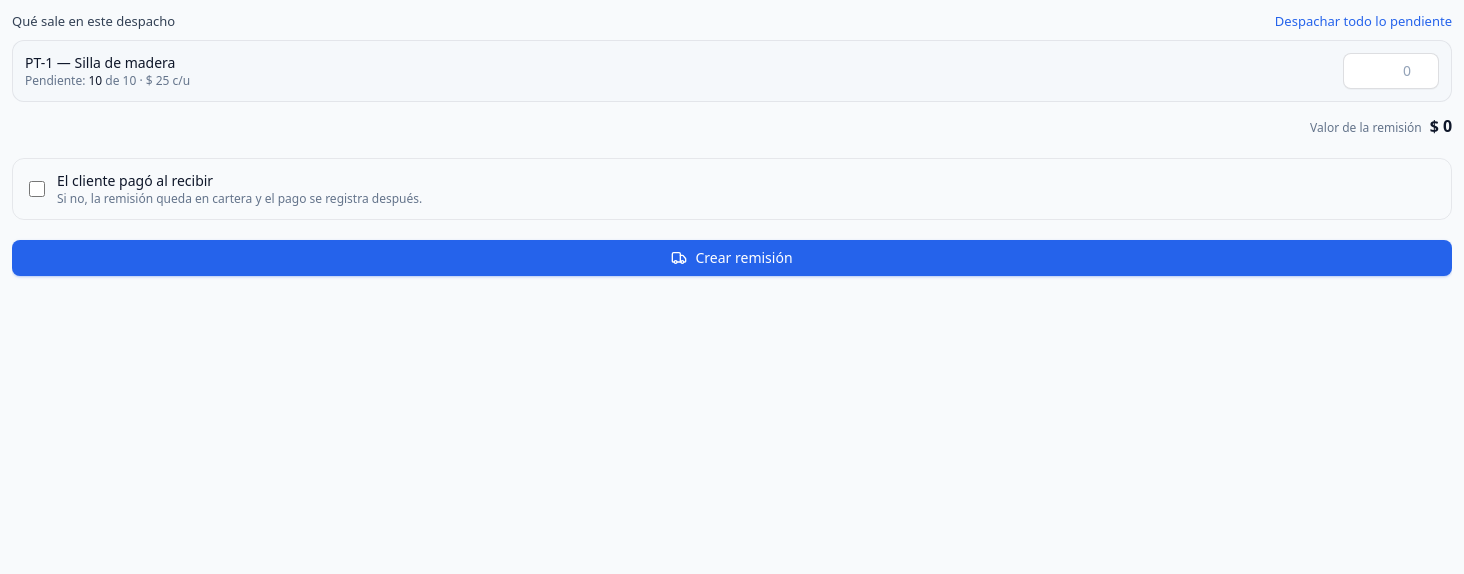
Test case: RemissionForm › requires a valid amount when the client paid on delivery
Type "2" into the number field named "Cantidad a entregar de Silla de madera" at [1391, 70], box [1343,52,1439,88]
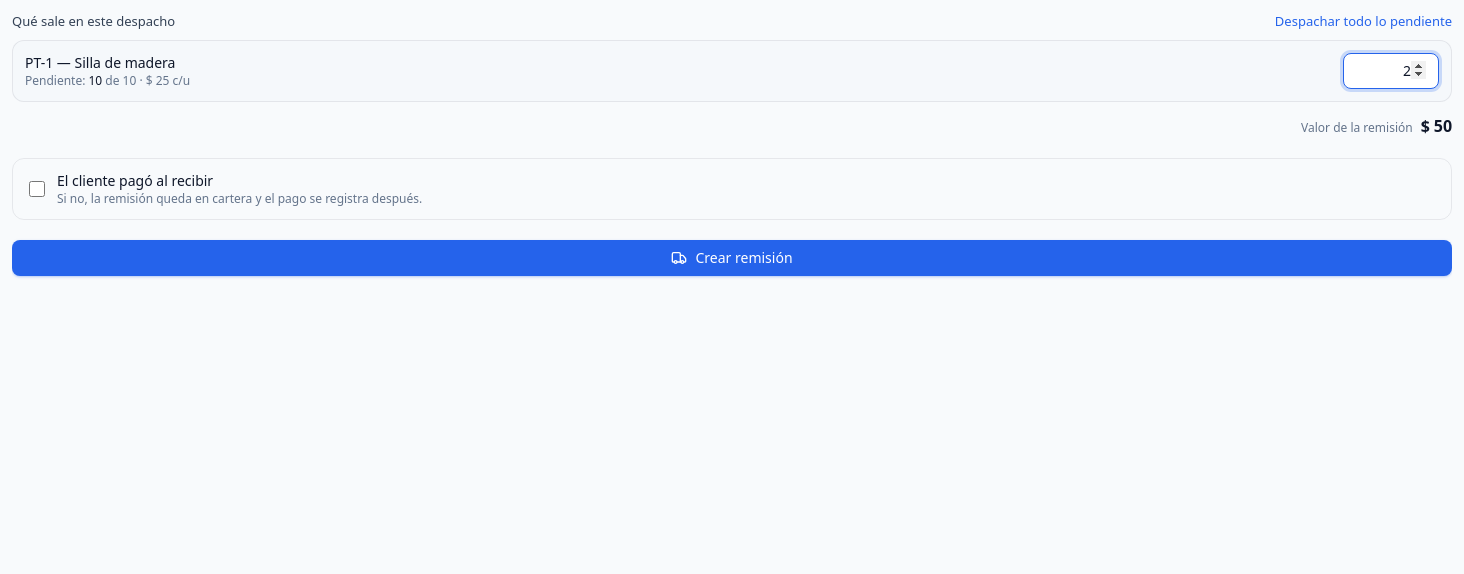
Click the checkbox labelled "El cliente pagó al recibir" at [37, 188], box [29,180,45,196]
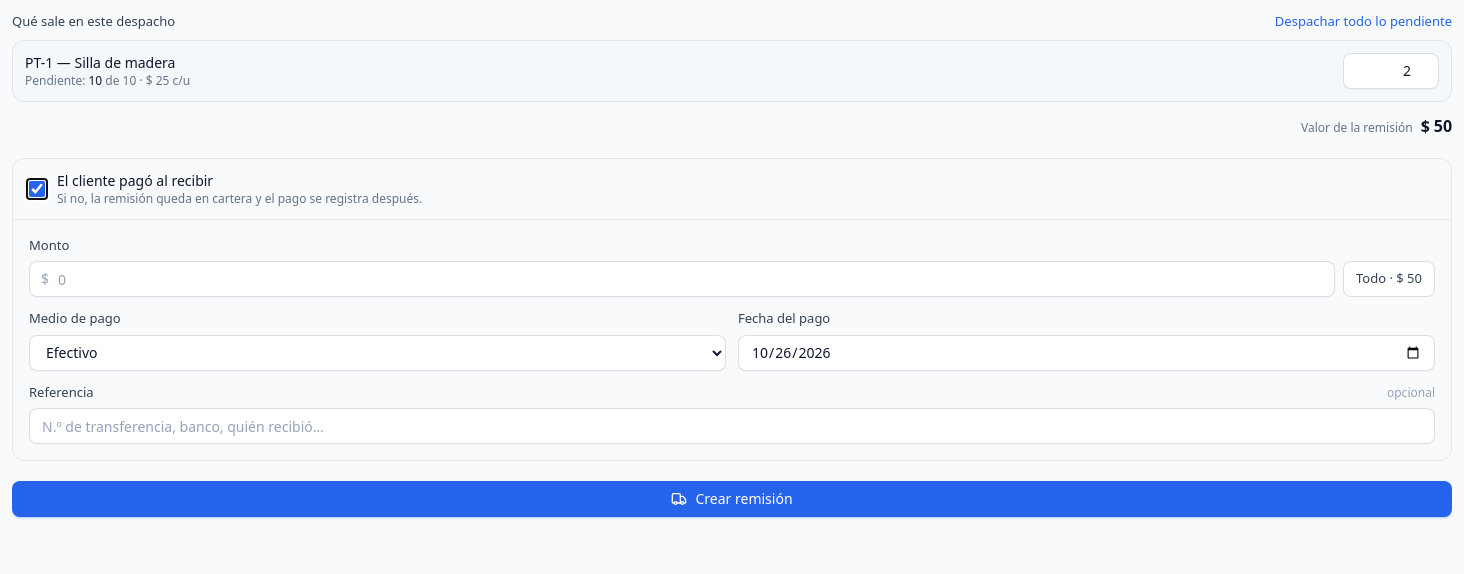
Click the button "Crear remisión" at [732, 499], box [12,481,1452,517]
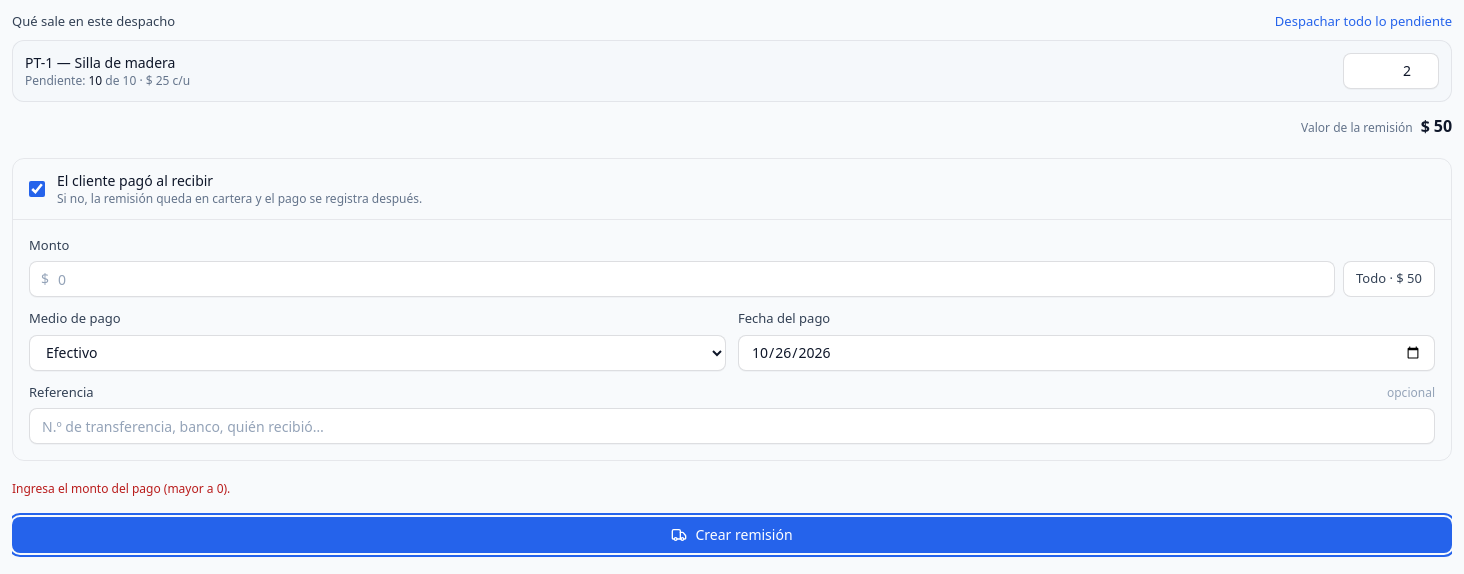
Expected: the text "Ingresa el monto del pago (mayor a 0)." is shown, [12,480,230,497]
Type "80" into the number field labelled "Monto" at [682, 279], box [29,261,1335,297]
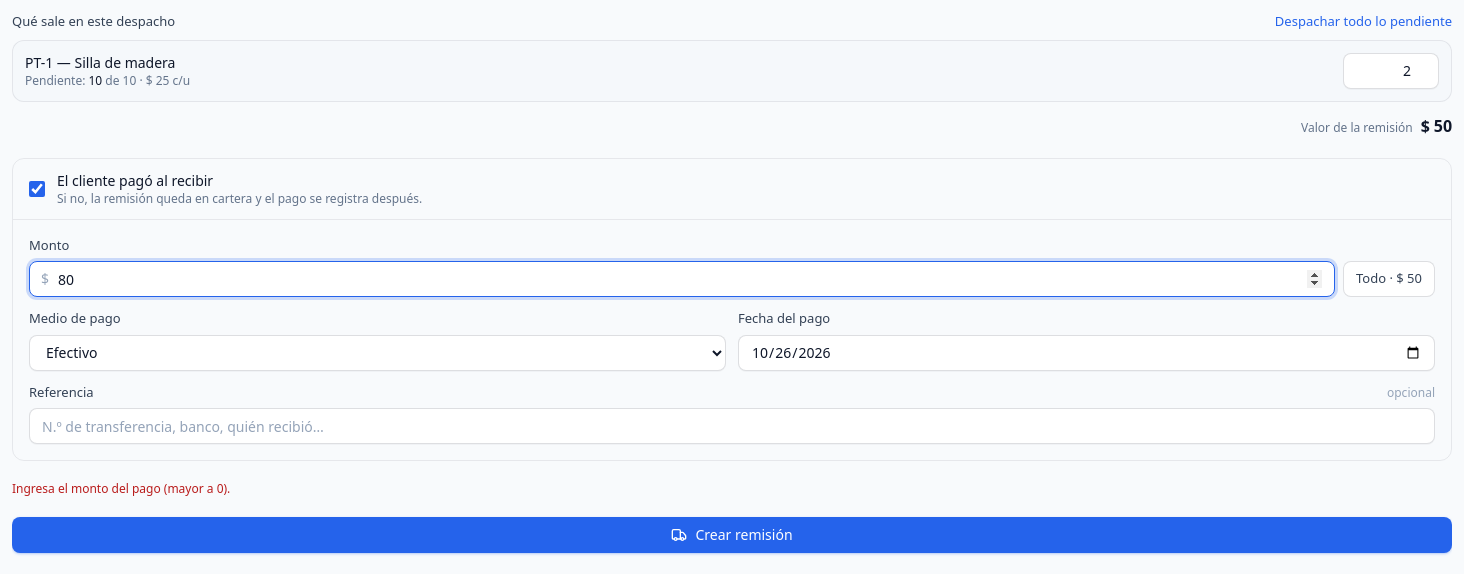
Click the button "Crear remisión" at [732, 535], box [12,517,1452,553]
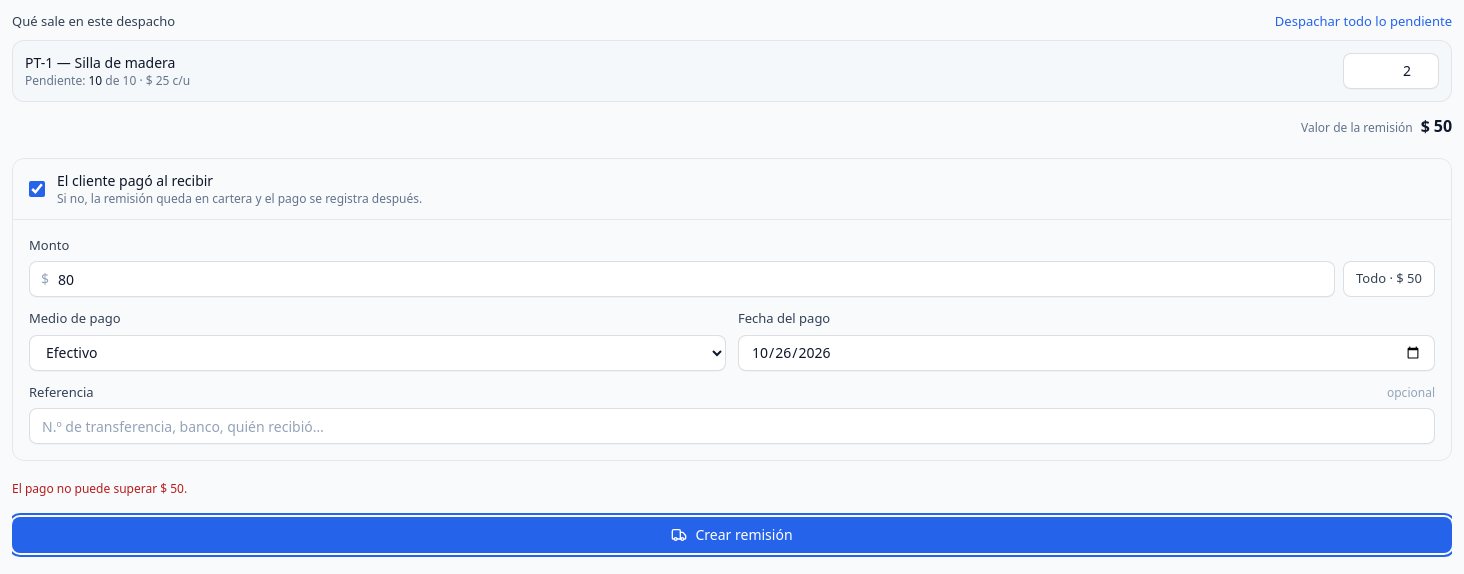
Expected: the text "El pago no puede superar $ 50." is shown, [12,480,187,497]
